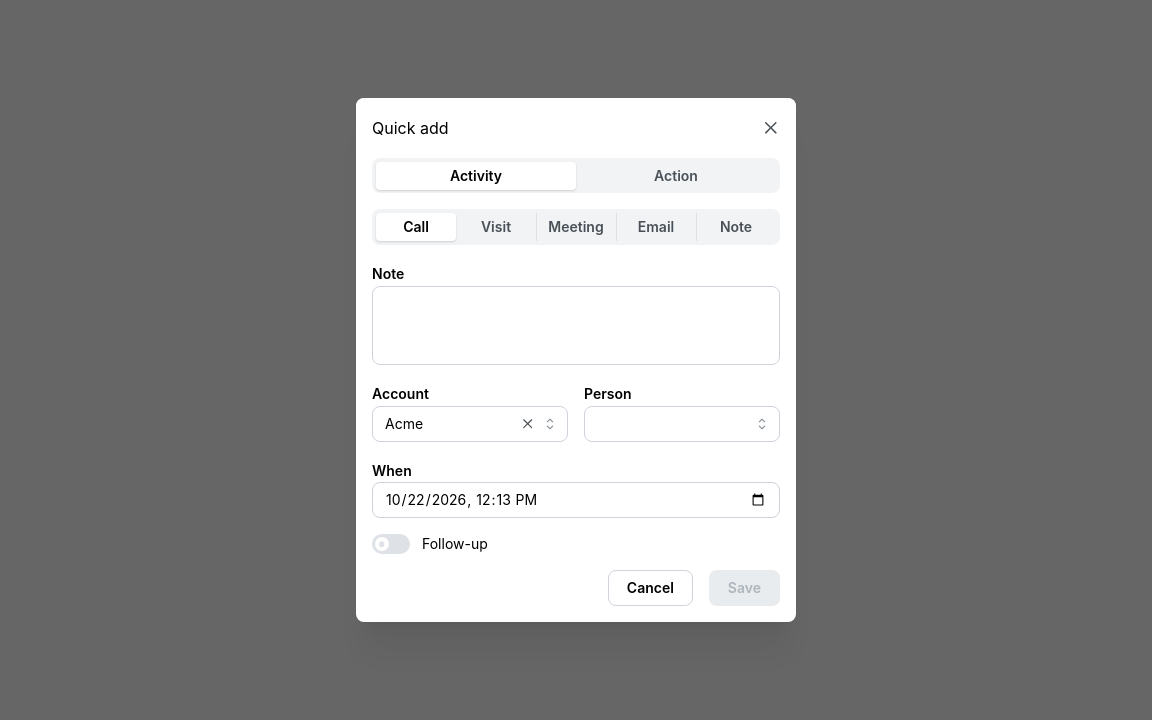
QuickAdd › shows the server error and stays open when saving fails
Type "x" into the text box labelled "Note".
click(576, 325); type("x")  # box left=372, top=286, right=780, bottom=365
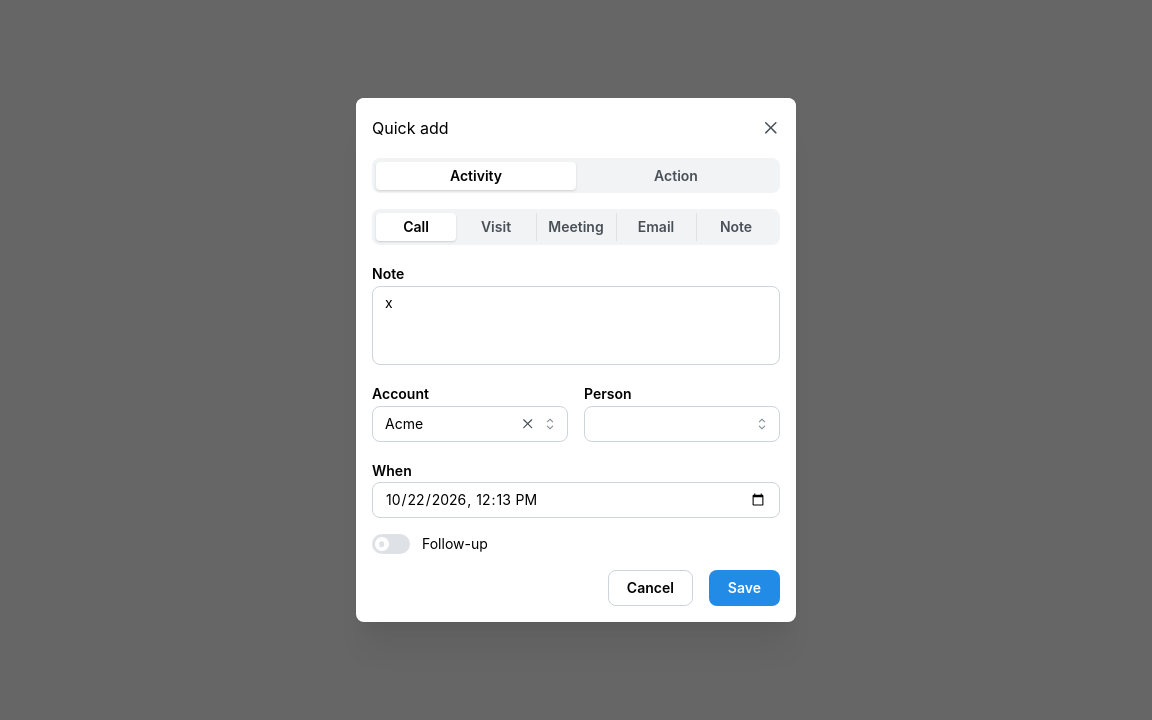
Click the button "Save".
click(744, 588)  # box left=709, top=570, right=780, bottom=606
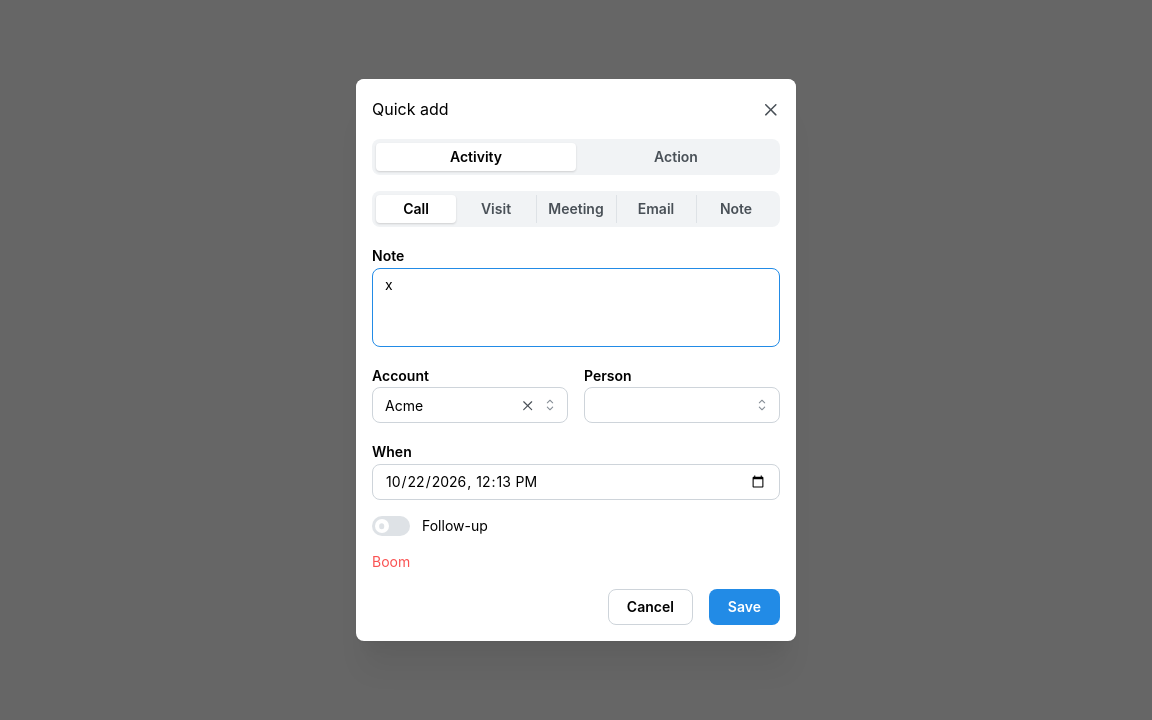
Result: the message "Boom" is shown at left=372, top=553, right=410, bottom=570
